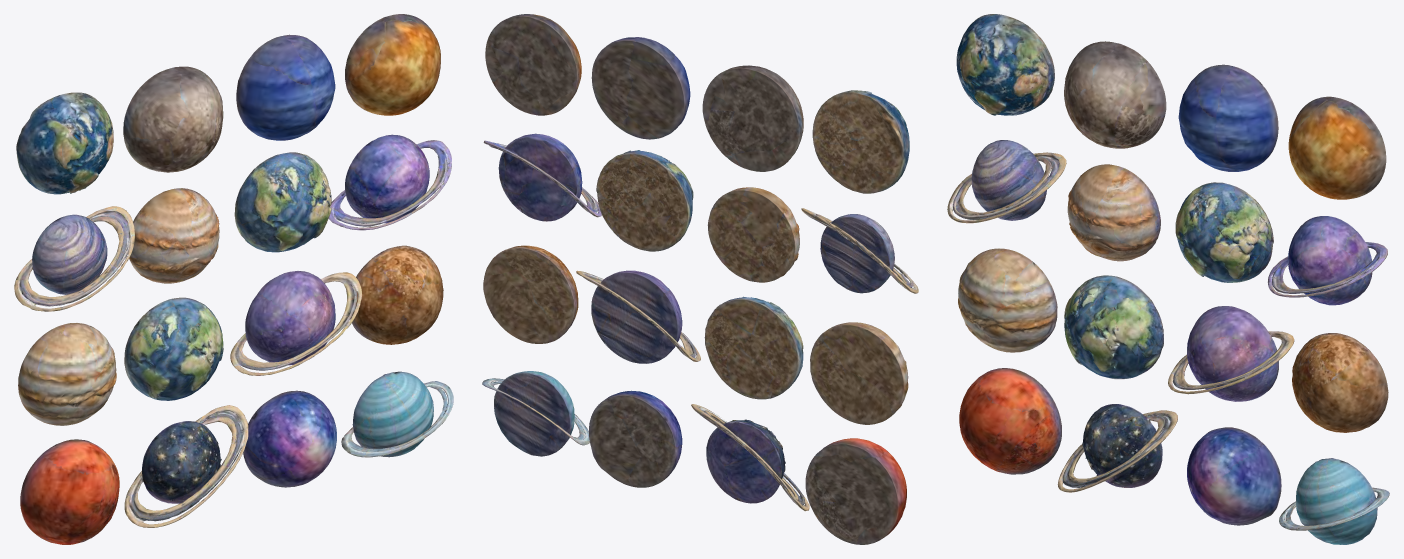
The picture shows the model from 3 angles, left to right: view 1: azimuth 30°, elevation 25°; view 2: azimuth 150°, elevation 25°; view 3: azimuth 330°, elevation 25°; orthographic projection.
Visible parts, largest first — view 1: Mesh 9, Mesh 6, Mesh 5, Mesh 4, Mesh 11, Mesh 7, Mesh 3, Mesh 1, Mesh 2, Mesh 15, Mesh 13, Mesh 10 (+4 smaller); view 2: Mesh 4, Mesh 6, Mesh 2, Mesh 7, Mesh 3, Mesh 11, Mesh 10, Mesh 15, Mesh 16, Mesh 9, Mesh 12, Mesh 8 (+4 smaller); view 3: Mesh 6, Mesh 4, Mesh 11, Mesh 7, Mesh 3, Mesh 15, Mesh 9, Mesh 2, Mesh 10, Mesh 16, Mesh 12, Mesh 8 (+4 smaller).
Part boxes in pixels (box(x1,y1,x2,y2)): Mesh 9: box(230, 271, 361, 375); Mesh 6: box(123, 66, 223, 172); Mesh 5: box(124, 405, 248, 527); Mesh 4: box(20, 439, 119, 544); Mesh 11: box(236, 34, 335, 140); Mesh 7: box(124, 297, 223, 400); Mesh 3: box(18, 323, 116, 425); Mesh 1: box(14, 206, 134, 311); Mesh 2: box(16, 92, 113, 194); Mesh 15: box(345, 14, 440, 115); Mesh 13: box(328, 134, 451, 230); Mesh 10: box(234, 152, 331, 252); Mesh 4: box(805, 438, 906, 544); Mesh 6: box(702, 65, 803, 171); Mesh 2: box(812, 90, 909, 193); Mesh 7: box(704, 296, 803, 399); Mesh 3: box(810, 322, 908, 424); Mesh 11: box(591, 37, 690, 139); Mesh 10: box(596, 150, 693, 251); Mesh 15: box(485, 14, 581, 115); Mesh 16: box(483, 245, 578, 343); Mesh 9: box(576, 270, 700, 363); Mesh 12: box(588, 390, 682, 487); Mesh 8: box(707, 187, 799, 282); Mesh 6: box(1064, 41, 1166, 148); Mesh 4: box(959, 368, 1061, 474); Mesh 11: box(1178, 64, 1278, 171); Mesh 7: box(1064, 275, 1163, 379); Mesh 3: box(958, 248, 1057, 352); Mesh 15: box(1288, 96, 1386, 199); Mesh 9: box(1168, 306, 1294, 401); Mesh 2: box(956, 14, 1054, 115); Mesh 10: box(1175, 182, 1273, 282); Mesh 16: box(1292, 333, 1388, 432); Mesh 12: box(1187, 427, 1281, 525); Mesh 8: box(1067, 164, 1160, 261).
Bounding box in the file's own units: 1.9 × 1.9 × 0.2374.
16 materials, 16 textured.
